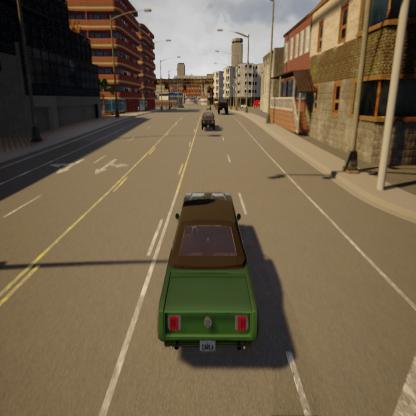Cars: (155, 172, 265, 361), (199, 106, 218, 134), (214, 94, 231, 112)
